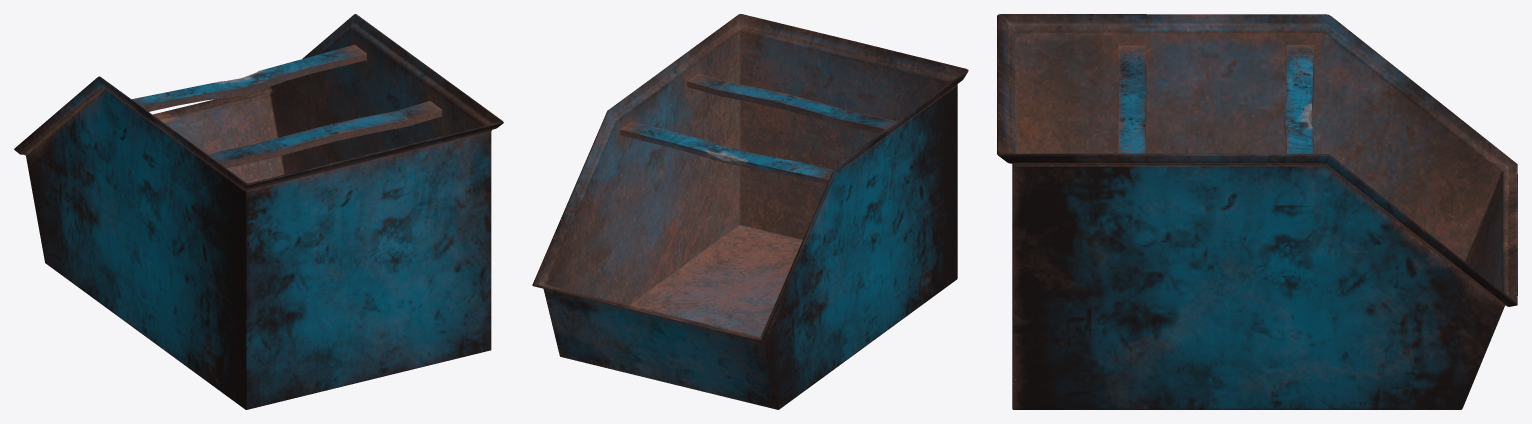
The picture shows the model from 3 angles, left to right: view 1: azimuth 30°, elevation 25°; view 2: azimuth 150°, elevation 25°; view 3: azimuth 270°, elevation 25°; orthographic projection. The views are drawn at different scales.
Parts seen in each view (by area): view 1: box1 done; view 2: box1 done; view 3: box1 done.
Part boxes in pixels (<box>): box1 done: <box>14,14,503,409</box>; box1 done: <box>532,14,968,409</box>; box1 done: <box>997,14,1517,409</box>.
Size of the model in its own units: 161 by 138 by 251.
Materials: 1 (1 with a texture image).
